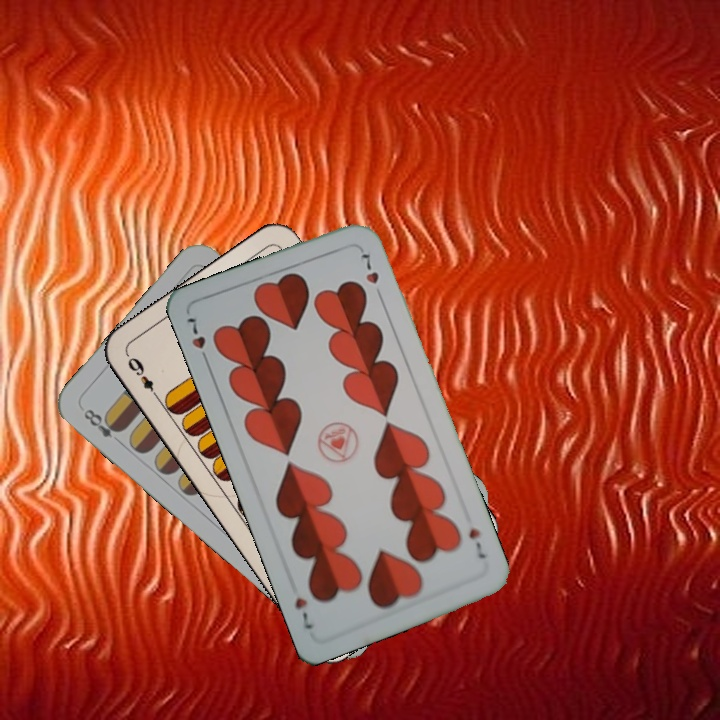E8: (79, 404, 126, 448)
E9: (123, 351, 162, 403)
H7: (182, 313, 212, 368), (464, 524, 489, 561)
